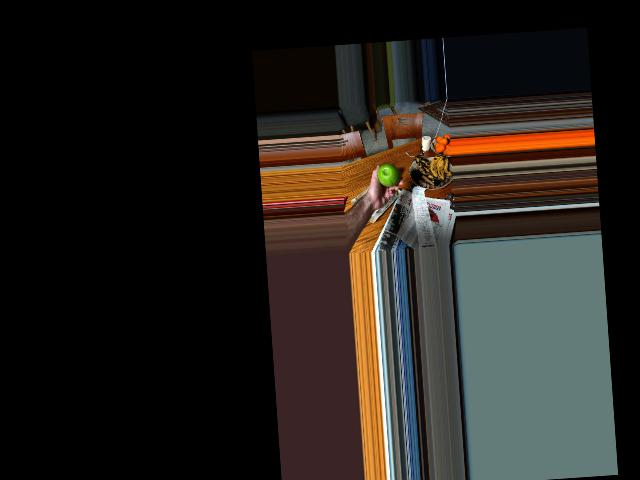apple: (374, 162, 401, 188)
